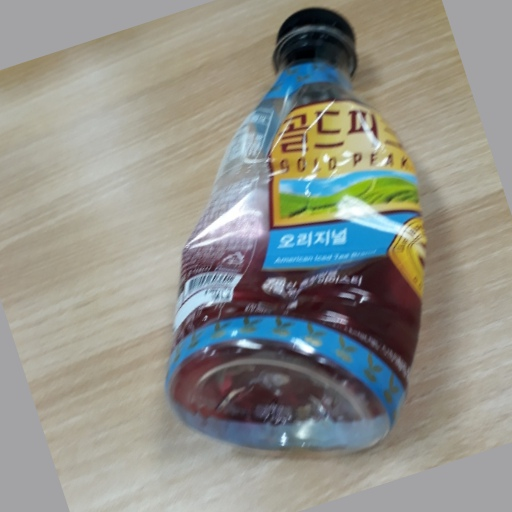Plastic_0: (170, 5, 428, 458)
